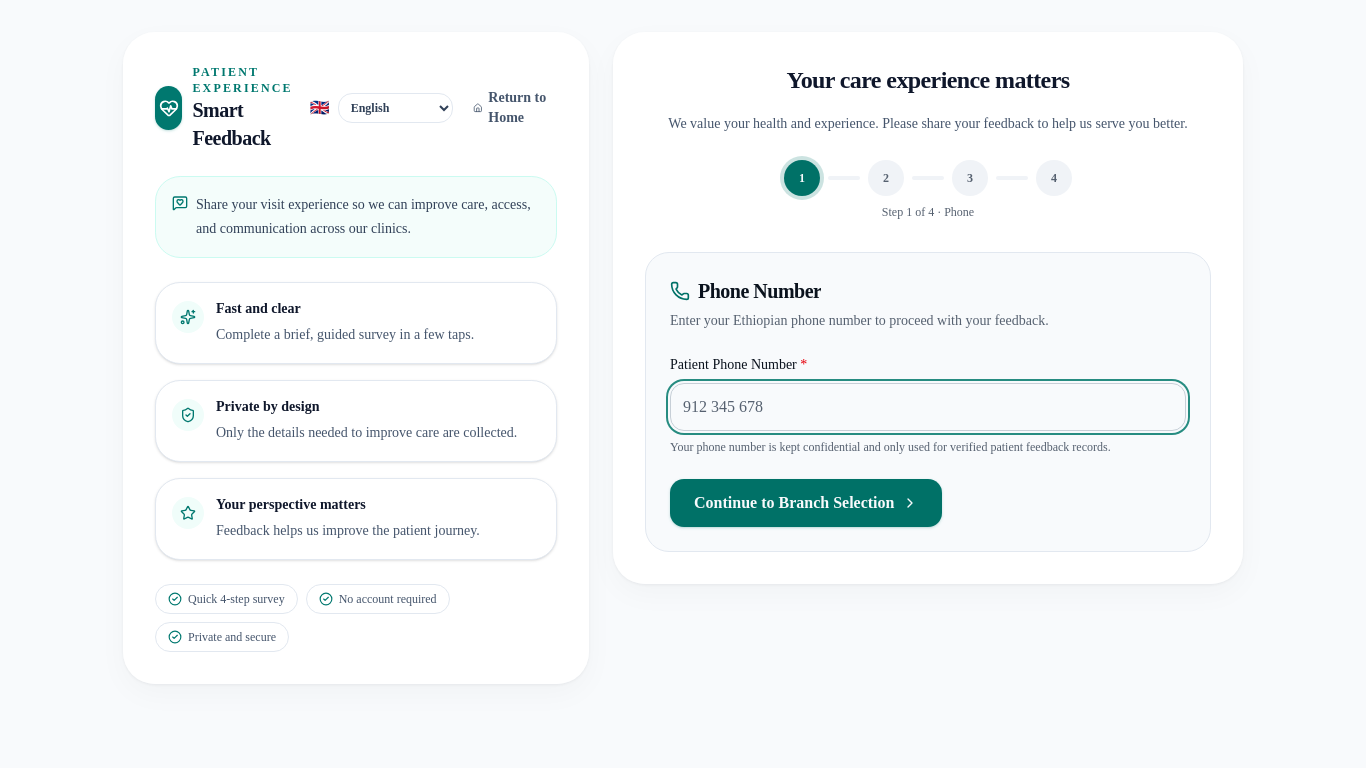
Test case: PatientFeedbackForm — validation feedback › reports a missing phone number as required
This screenshot has width=1366, height=768.
Click the button "Continue to Branch Selection" at (806, 503), box [670,479,942,527]
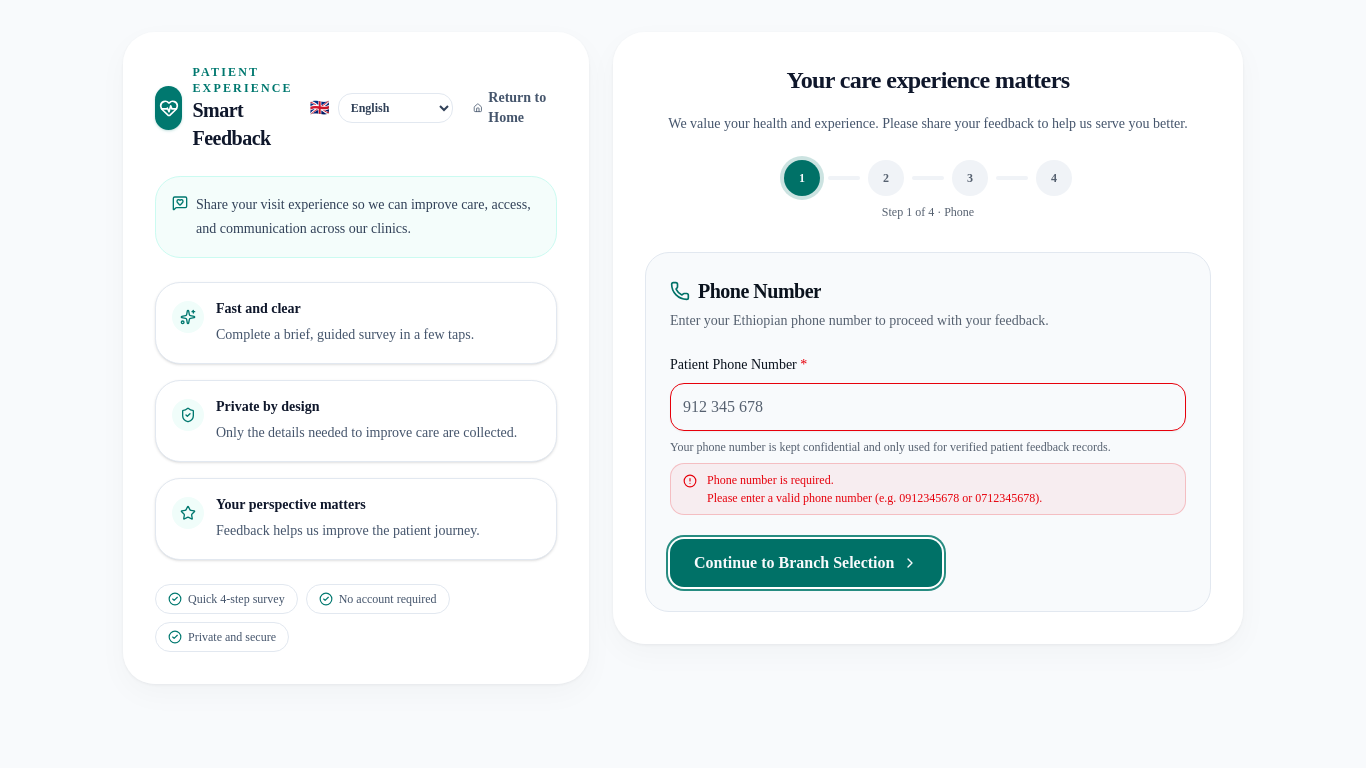
Expected: the list item "Phone number is required." is shown, [707,473,834,487]
